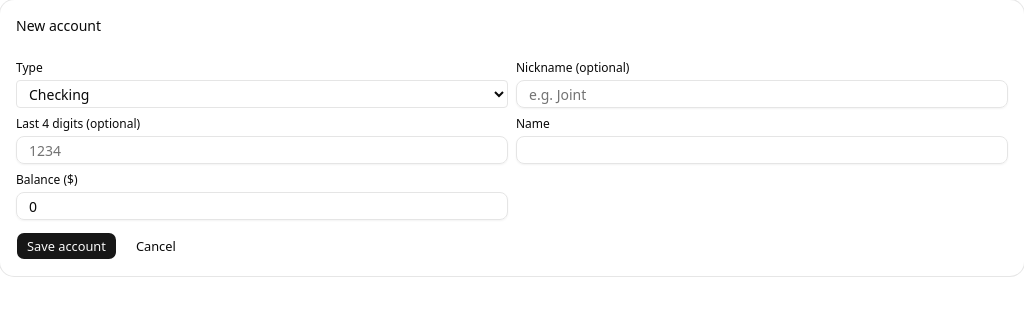
Test: AddAccountForm › blocks submit with invalid last4
This screenshot has width=1024, height=322.
In the field labelled "Name": (762, 150) [516,136,1008,164], type "Chase"
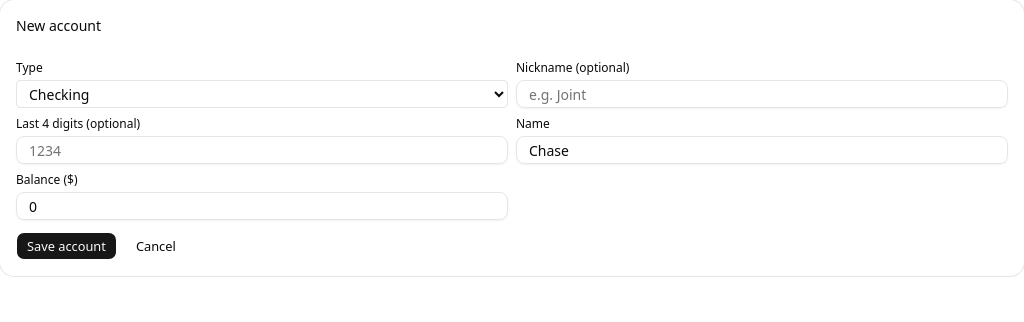
In the field labelled "Last 4 digits (optional)": (262, 150) [16,136,508,164], type "12"
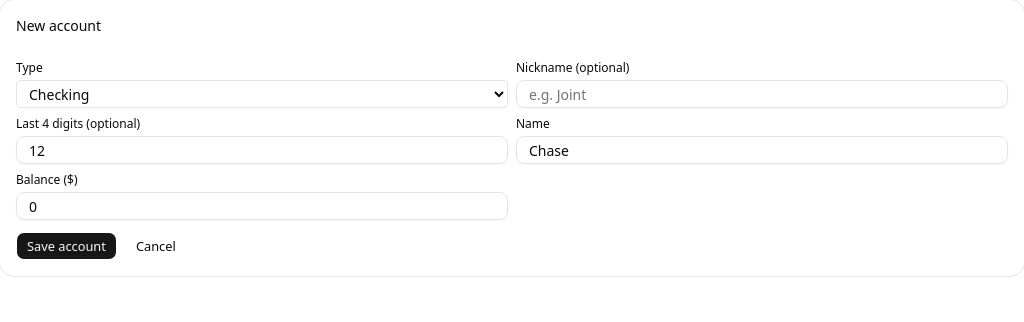
Click the button "Save account": (66, 246) [16,232,117,260]
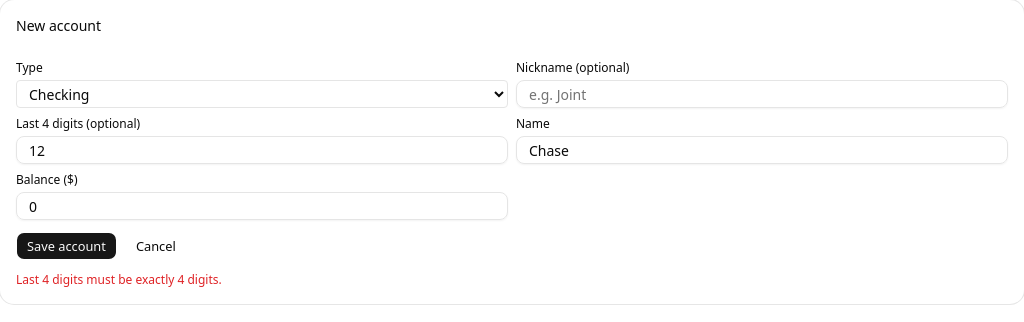
expect the text "Last 4 digits must be exactly 4 digits." is shown: met, box [16,271,222,288]
